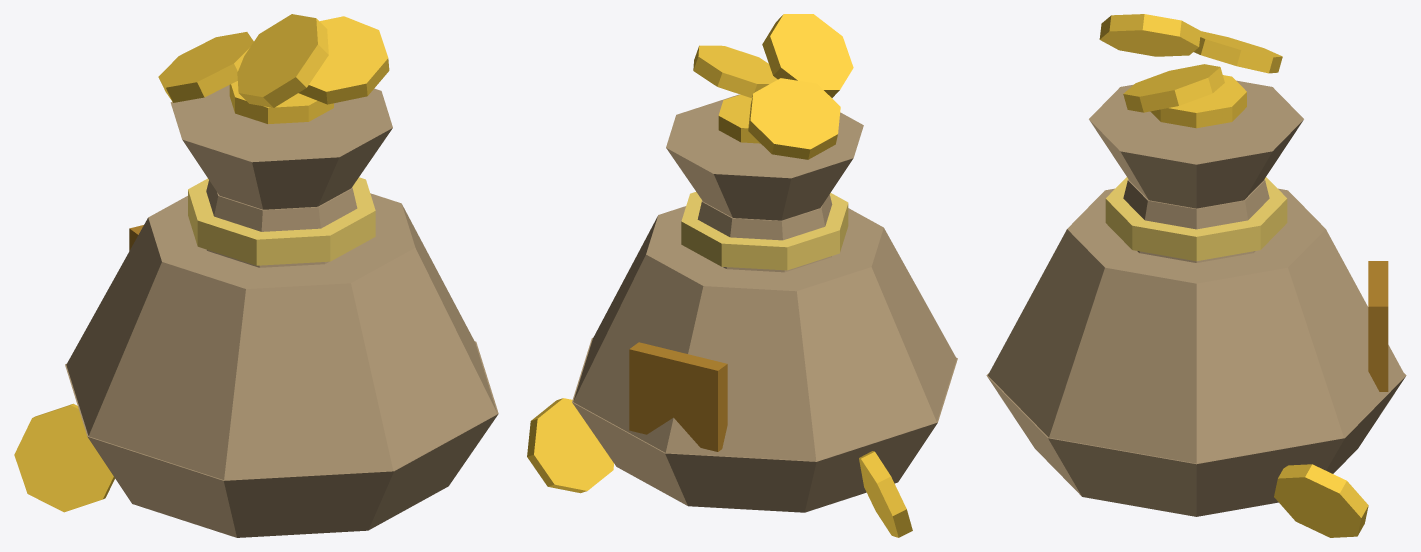
The model's file is PR_GiftPouch.fbx.
3 renders of one model, left to right at view 1: azimuth 30°, elevation 25°; view 2: azimuth 150°, elevation 25°; view 3: azimuth 270°, elevation 25°, orthographic. The views are drawn at different scales.
Visible parts, largest first — view 1: PR_GiftPouch_Mesh; view 2: PR_GiftPouch_Mesh; view 3: PR_GiftPouch_Mesh.
Boxes of the visible parts, left/top/right/bottom form: PR_GiftPouch_Mesh: left=14, top=14, right=498, bottom=537; PR_GiftPouch_Mesh: left=527, top=14, right=957, bottom=537; PR_GiftPouch_Mesh: left=986, top=14, right=1406, bottom=537.
Size of the model in its own units: 0.6546 by 0.624 by 0.7623.
